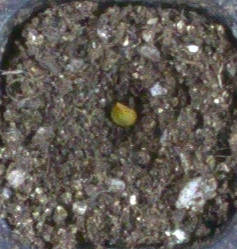pepper seed: (41, 38, 179, 166)
